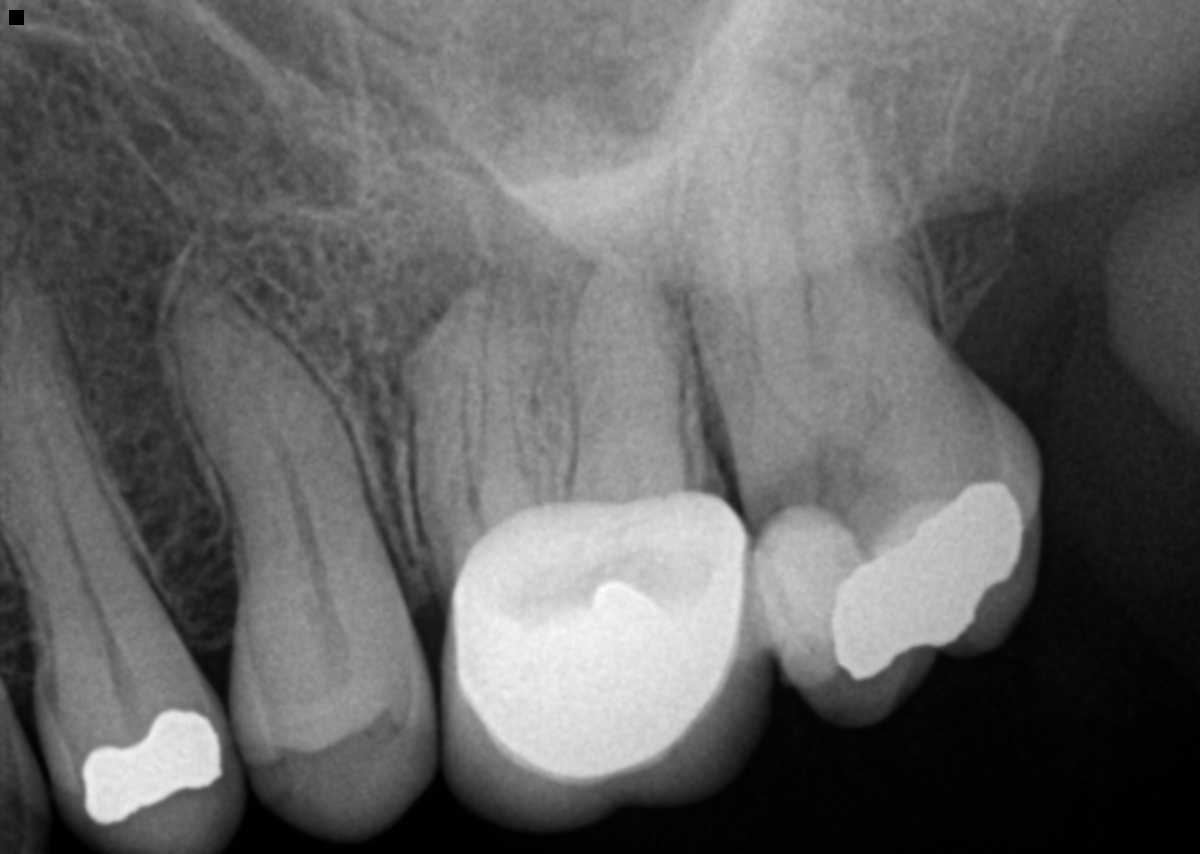Apical Lesion: (448, 0, 720, 157), (353, 246, 486, 437), (541, 190, 688, 311)
Distal Canal: (826, 146, 875, 344)
Distal Root: (795, 48, 945, 344), (567, 243, 693, 500)
Main Canal: (222, 362, 327, 597), (21, 385, 116, 638)
Main Root: (171, 277, 394, 606), (0, 260, 164, 655)
Mesial Canal: (742, 195, 784, 406)
Mesial Root: (401, 269, 541, 568), (691, 133, 815, 455)
Palatal Root: (471, 80, 713, 513), (708, 66, 937, 458)
decay: (745, 434, 906, 548)
